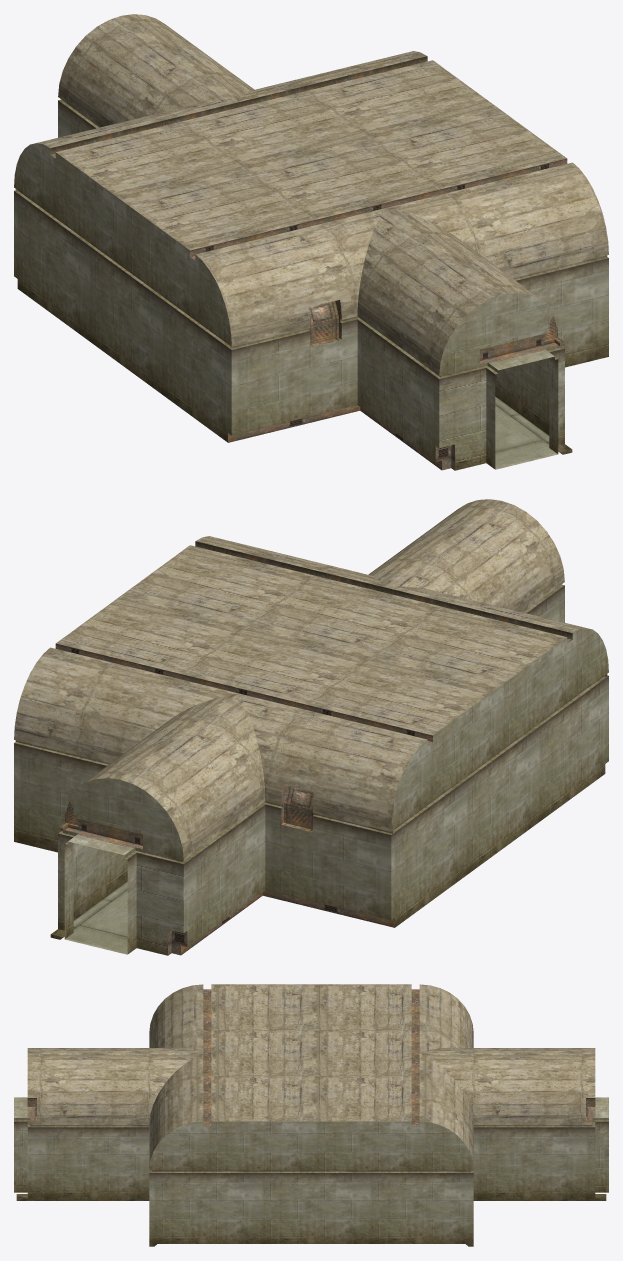
File: poi_all_bunker_mad_bio_s01_r25_office_mesh_r25.fbx
3 renders of one model, top to bottom at view 1: azimuth 30°, elevation 25°; view 2: azimuth 150°, elevation 25°; view 3: azimuth 270°, elevation 25°, orthographic. The views are drawn at different scales.
Parts seen in each view (by area): view 1: mesh_node; view 2: mesh_node; view 3: mesh_node.
Part boxes in pixels (x1=…): mesh_node: x1=14, y1=14, x2=608, y2=470; mesh_node: x1=14, y1=499, x2=608, y2=955; mesh_node: x1=14, y1=984, x2=608, y2=1246.
Bounding box in the file's own units: 12 × 5.1 × 22.
